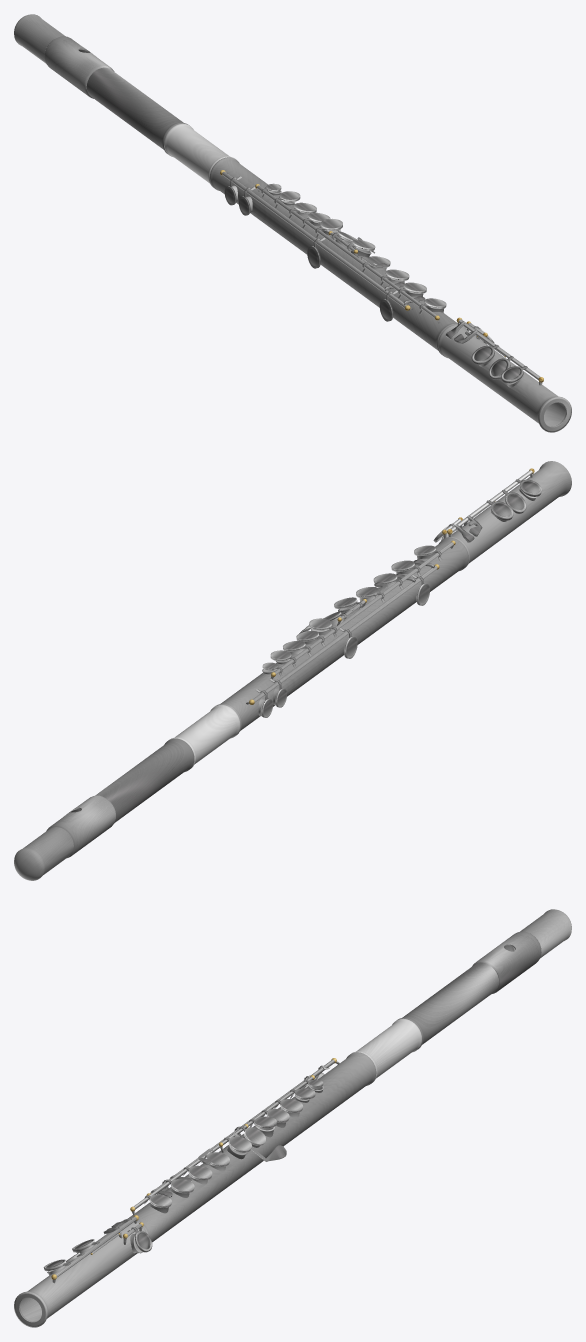
The model's file is flute.fbx.
The picture shows the model from 3 angles, top to bottom: view 1: azimuth 30°, elevation 25°; view 2: azimuth 150°, elevation 25°; view 3: azimuth 330°, elevation 25°; orthographic projection.
Parts seen in each view (by area): view 1: Cylinder, Cylinder.001, Cylinder.004, Cylinder.003; view 2: Cylinder, Cylinder.001, Cylinder.004, Cylinder.003; view 3: Cylinder, Cylinder.001, Cylinder.003.
Part boxes in pixels (box(x1,y1,x2,y2)): Cylinder: box(14, 14, 571, 432); Cylinder.001: box(44, 36, 114, 98); Cylinder.004: box(222, 171, 406, 308); Cylinder.003: box(257, 185, 436, 317); Cylinder: box(14, 461, 571, 880); Cylinder.001: box(46, 795, 115, 857); Cylinder.004: box(252, 566, 437, 702); Cylinder.003: box(274, 542, 453, 674); Cylinder: box(14, 909, 571, 1327); Cylinder.001: box(472, 931, 541, 993); Cylinder.003: box(133, 1076, 313, 1209).
Size of the model in its own units: 260 by 196 by 4485.
5 materials, 5 textured.
